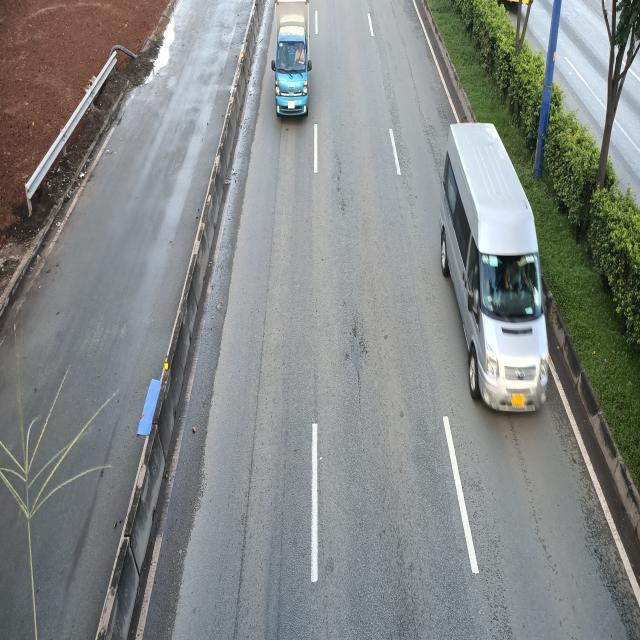car: (0, 427, 180, 640)
truck: (270, 0, 311, 117)
van: (436, 125, 547, 418)
